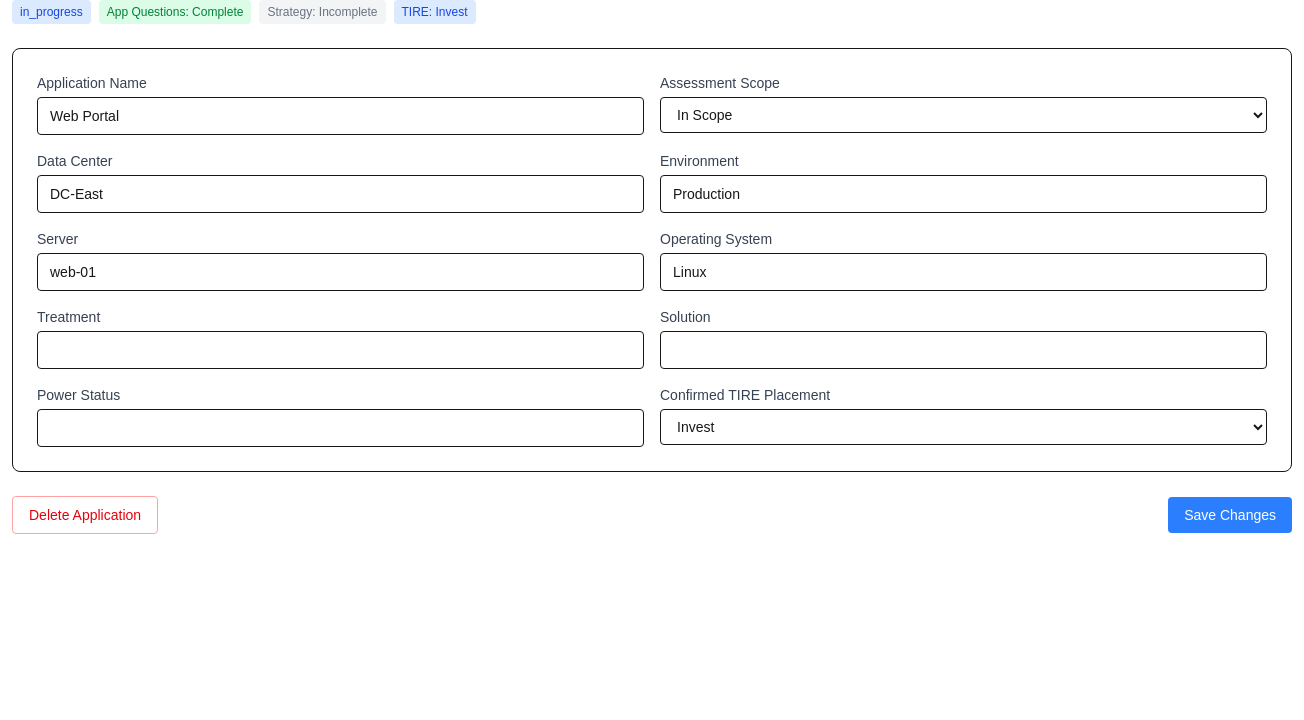
Scenario: ApplicationDetail › shows error message on save failure
Step 1. Click the button "Save Changes" → [1230, 515], box [1168, 497, 1292, 533]
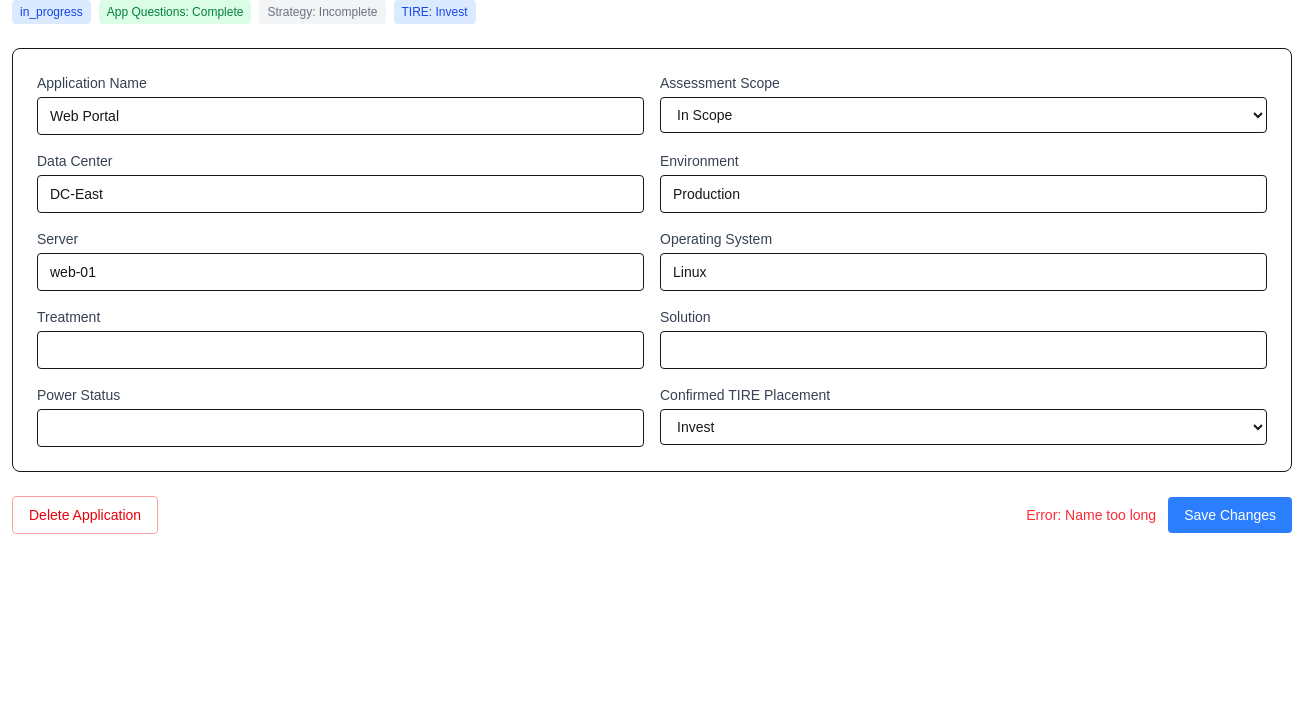
Now the text "Error: Name too long" is shown, box [1026, 505, 1156, 525]
